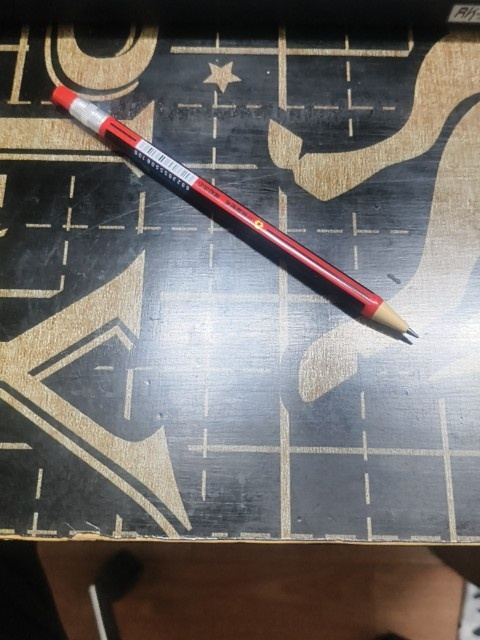pen: (48, 79, 421, 345)
